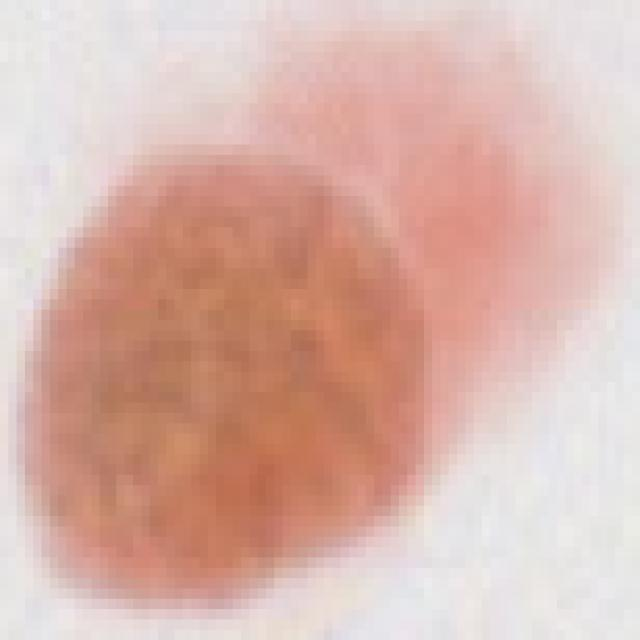cytoplasm: (0, 0, 632, 630)
nucleus: (1, 129, 457, 621)
